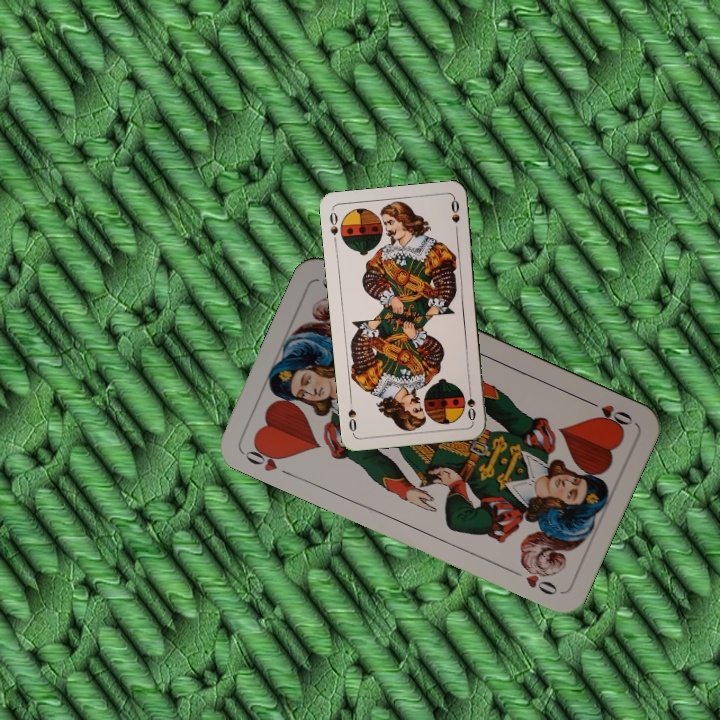HO: (241, 439, 295, 480), (581, 395, 636, 430)
SO: (463, 383, 478, 424), (326, 207, 341, 237)
